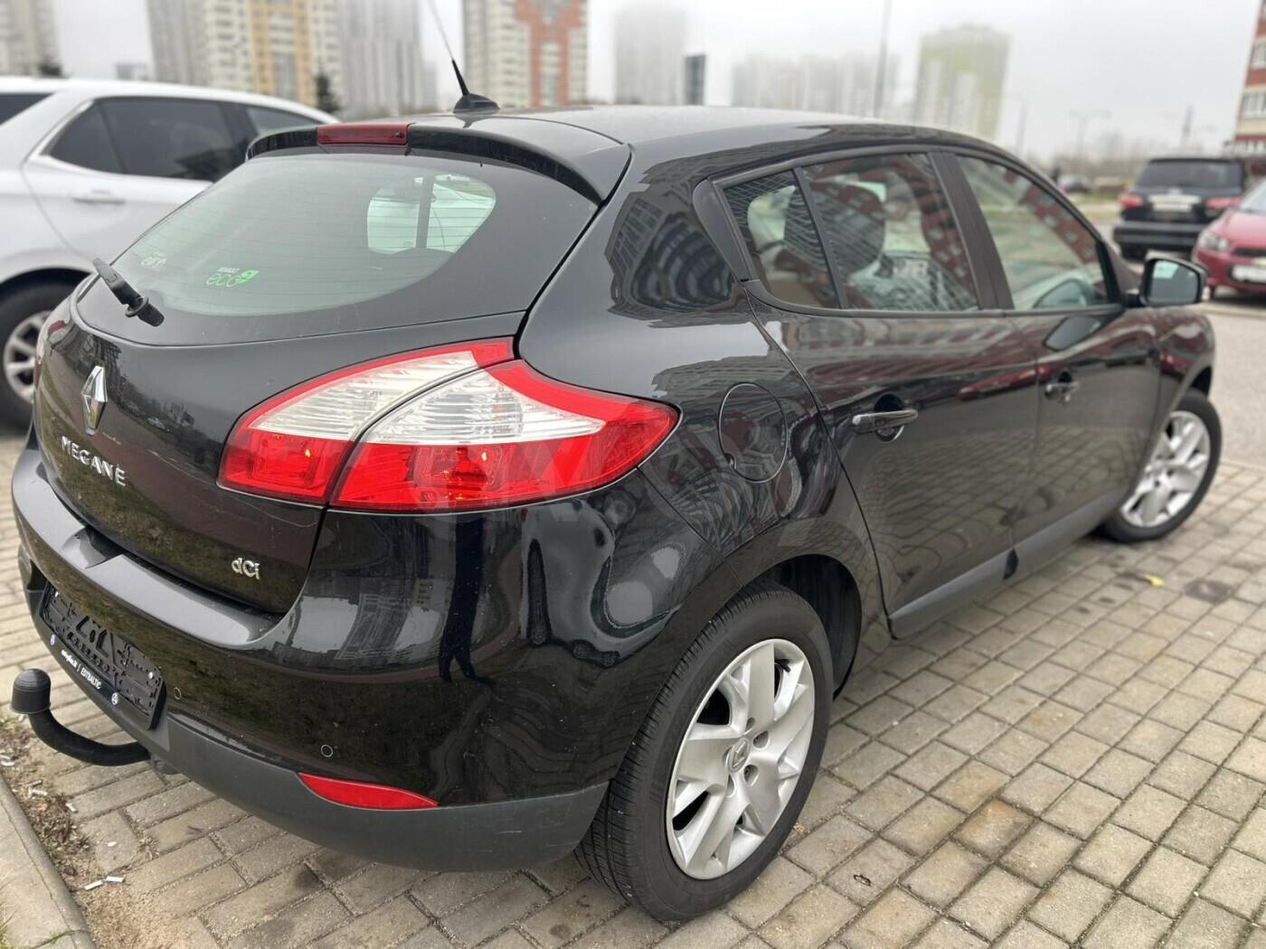Megane_2008-2014: (12, 105, 1226, 917)
